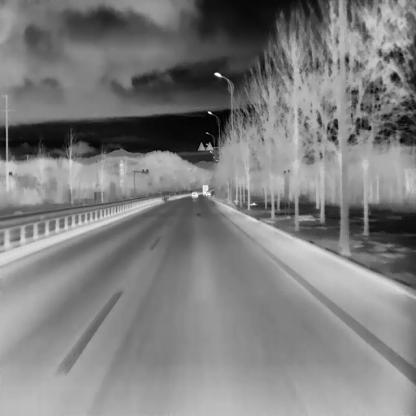car: (202, 184, 208, 195), (191, 190, 198, 198), (206, 189, 211, 196)
